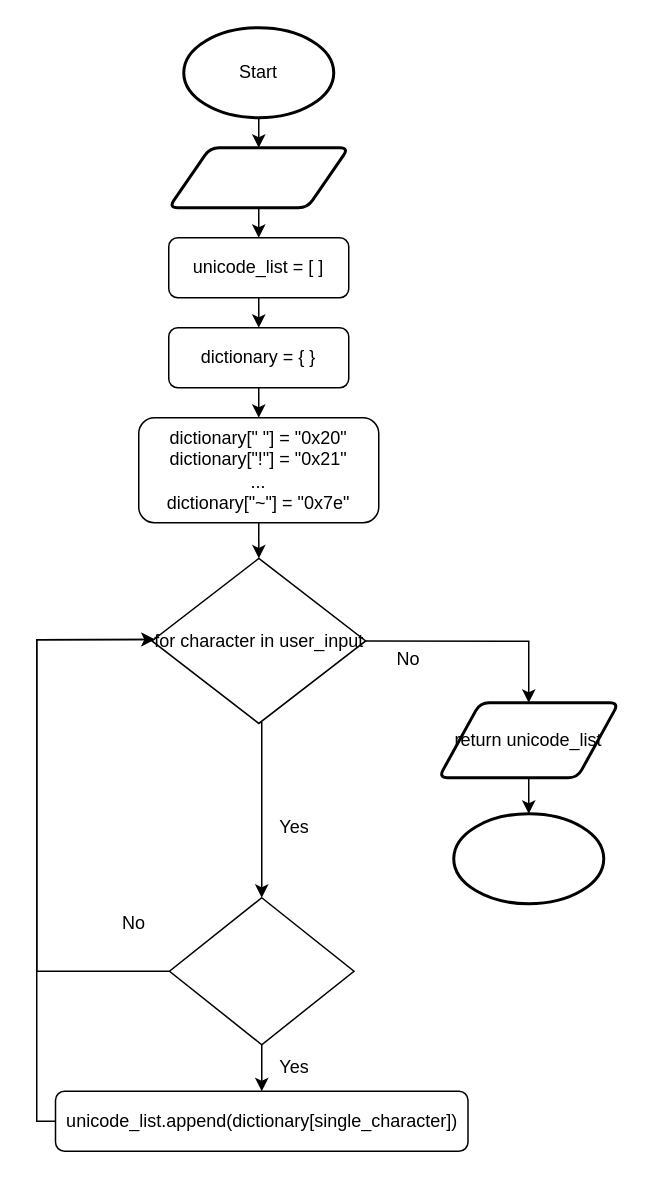
The diagram is 647 pixels wide and 1178 high, and some of its shapes have lost their labels. The shapes that lost their labels are listed below. From the top down, each one's centre as x and y in pixels, then its label:
the point at 258,177: get user_input
the point at 528,858: Stop
the point at 261,970: if character in dictionary.keys()
